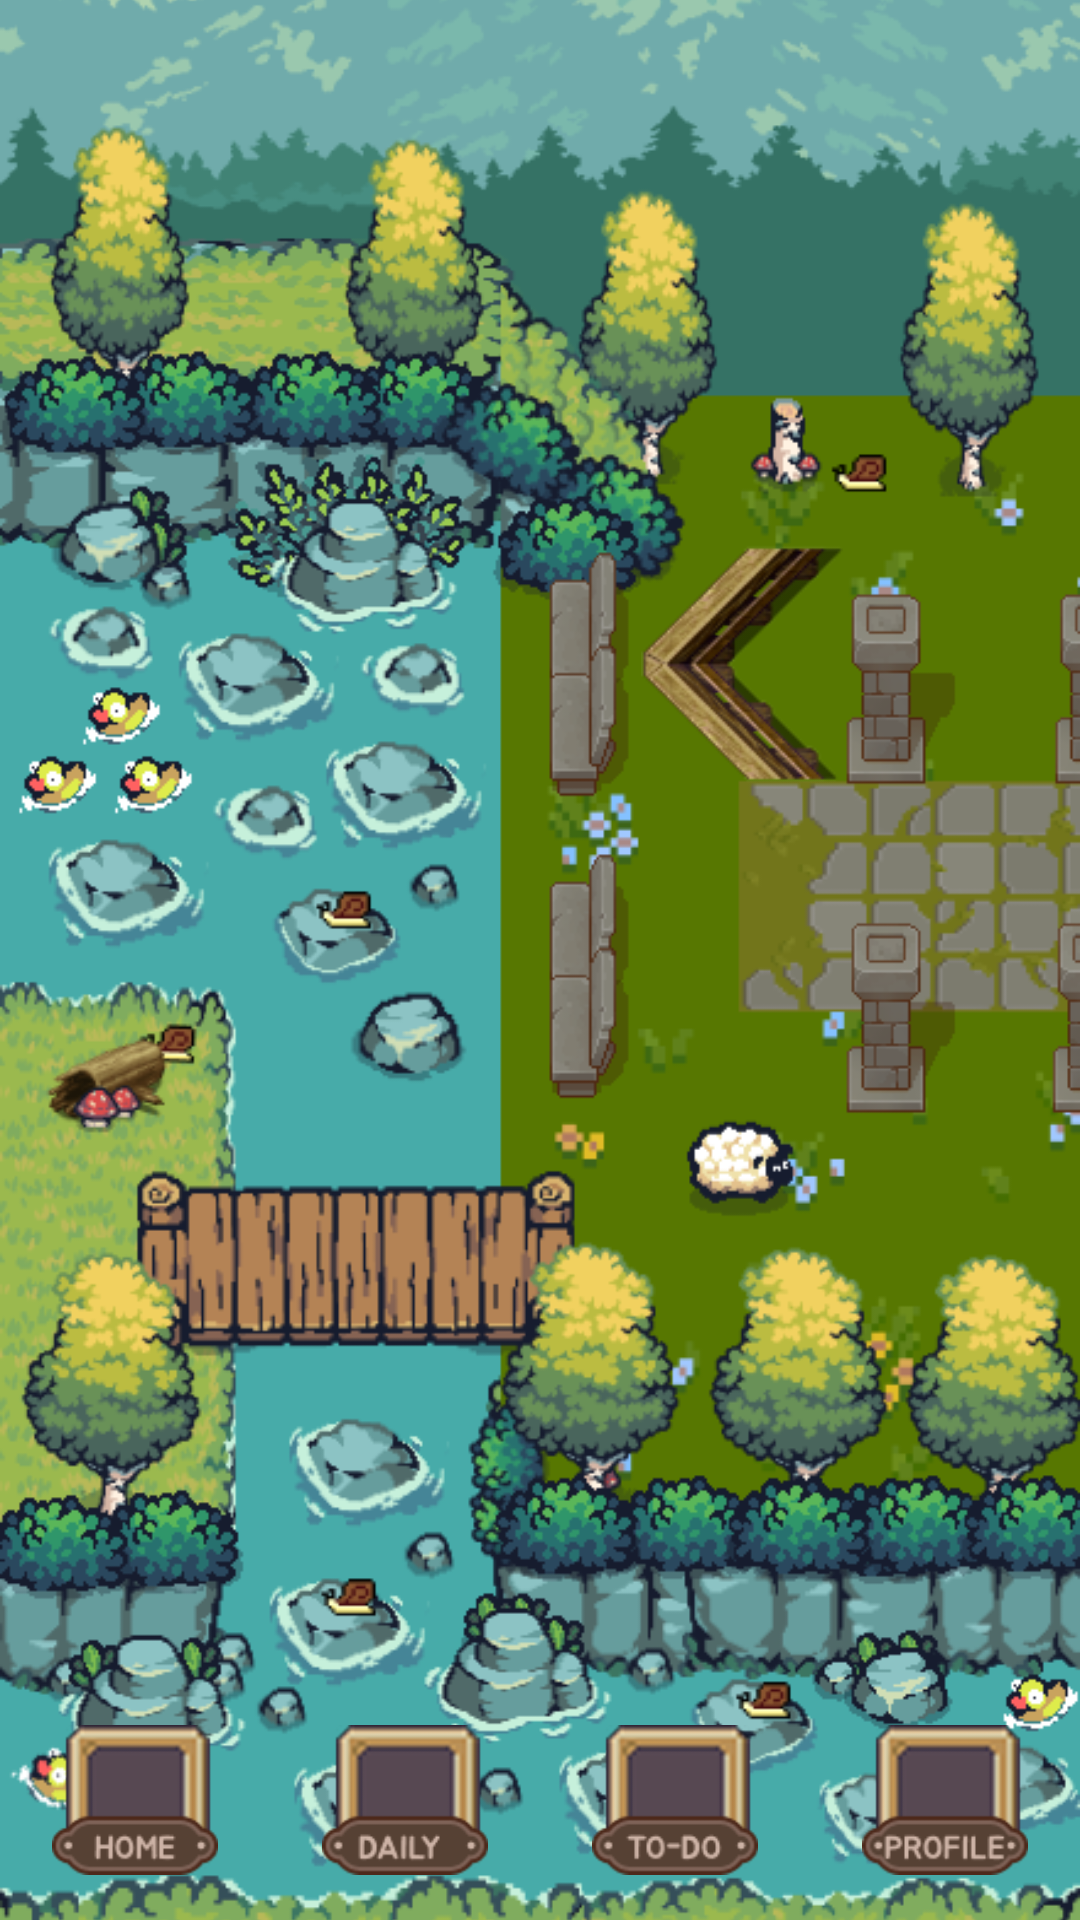

Screen size 1080*1920. Icon name, then its center in pixels as (x=x, y=y):
arrowleft: (x=749, y=664)
